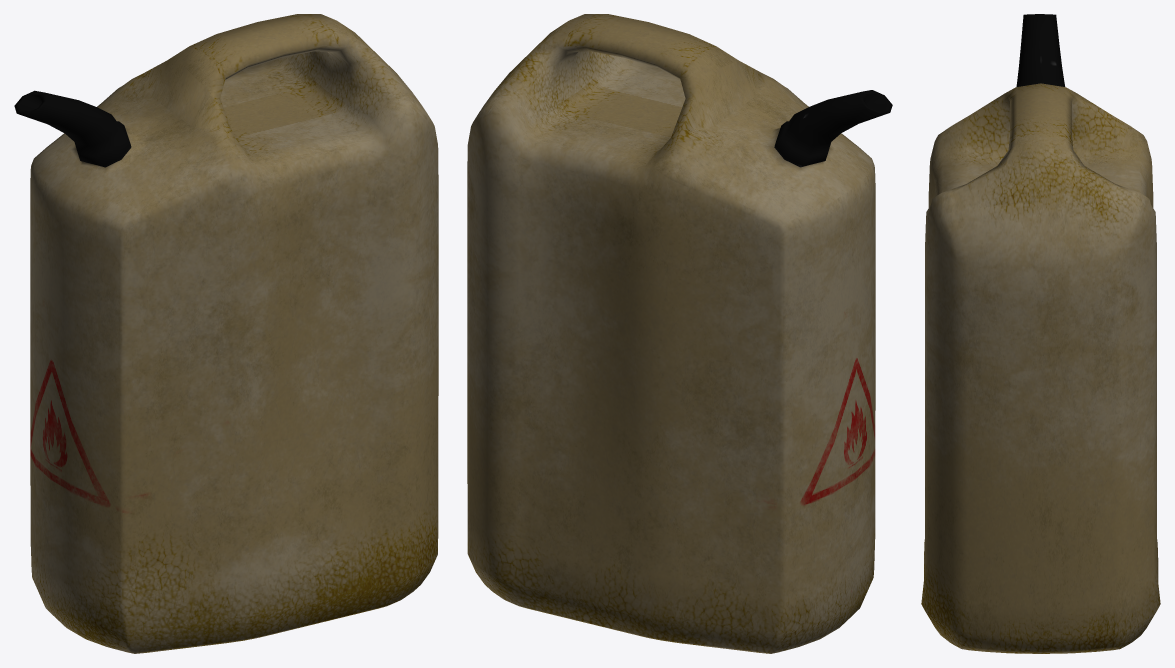
The model's file is ExProps2_FuelBottle.fbx.
3 views of the same model, side by side, from view 1: azimuth 30°, elevation 25°; view 2: azimuth 150°, elevation 25°; view 3: azimuth 270°, elevation 25° (orthographic). The views are drawn at different scales.
Visible parts, largest first — view 1: GasGallon; view 2: GasGallon; view 3: GasGallon.
Part boxes in pixels (x1=…): GasGallon: x1=14, y1=14, x2=438, y2=653; GasGallon: x1=467, y1=14, x2=892, y2=653; GasGallon: x1=921, y1=14, x2=1160, y2=653.
Size of what is drawn, in the model's own units: 154 by 208 by 90.39.
1 material, 1 textured.
